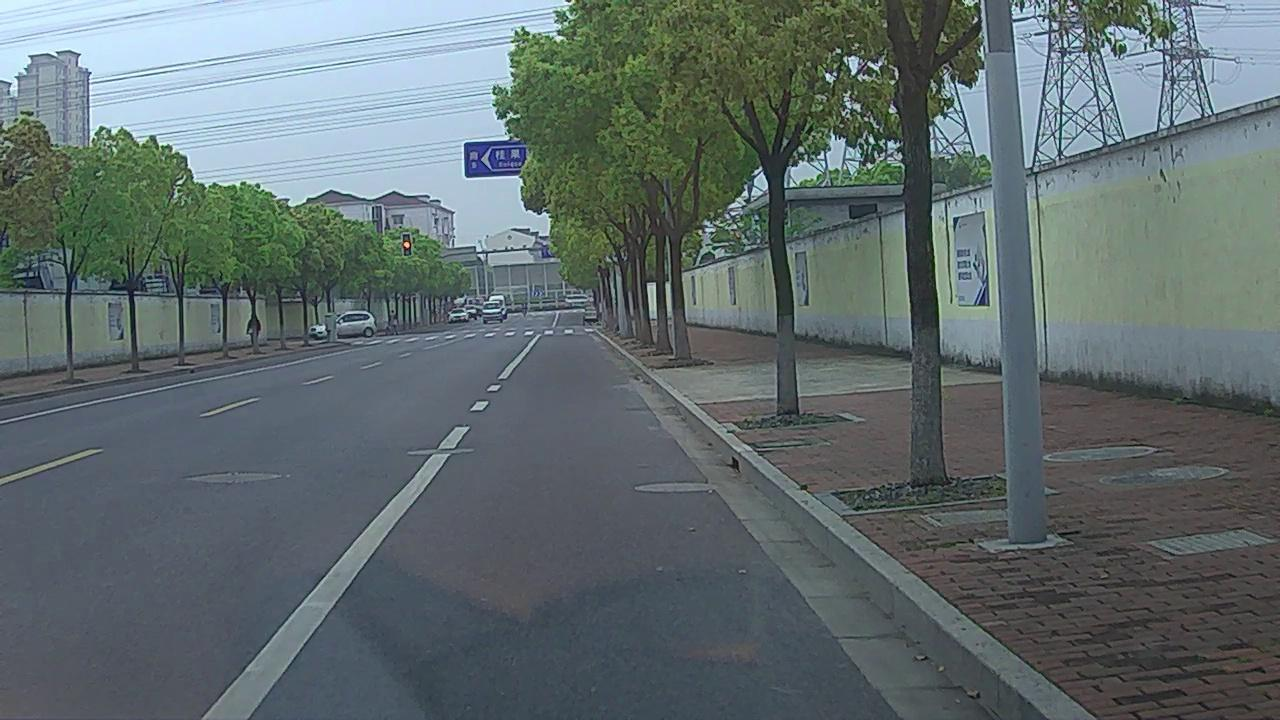traffic_light: (402, 234, 410, 256)
